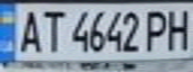2: (121, 7, 145, 53)
4: (103, 7, 127, 53), (66, 7, 90, 53)
6: (87, 8, 109, 53)
A: (12, 7, 45, 54)
H: (163, 6, 193, 52)
P: (142, 7, 172, 53)
T: (36, 7, 66, 53)
